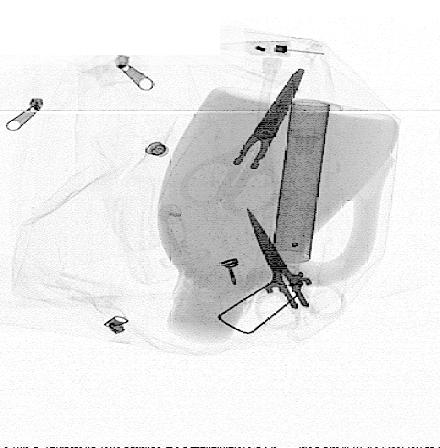Scissors: (178, 67, 307, 219), (246, 206, 348, 335)
